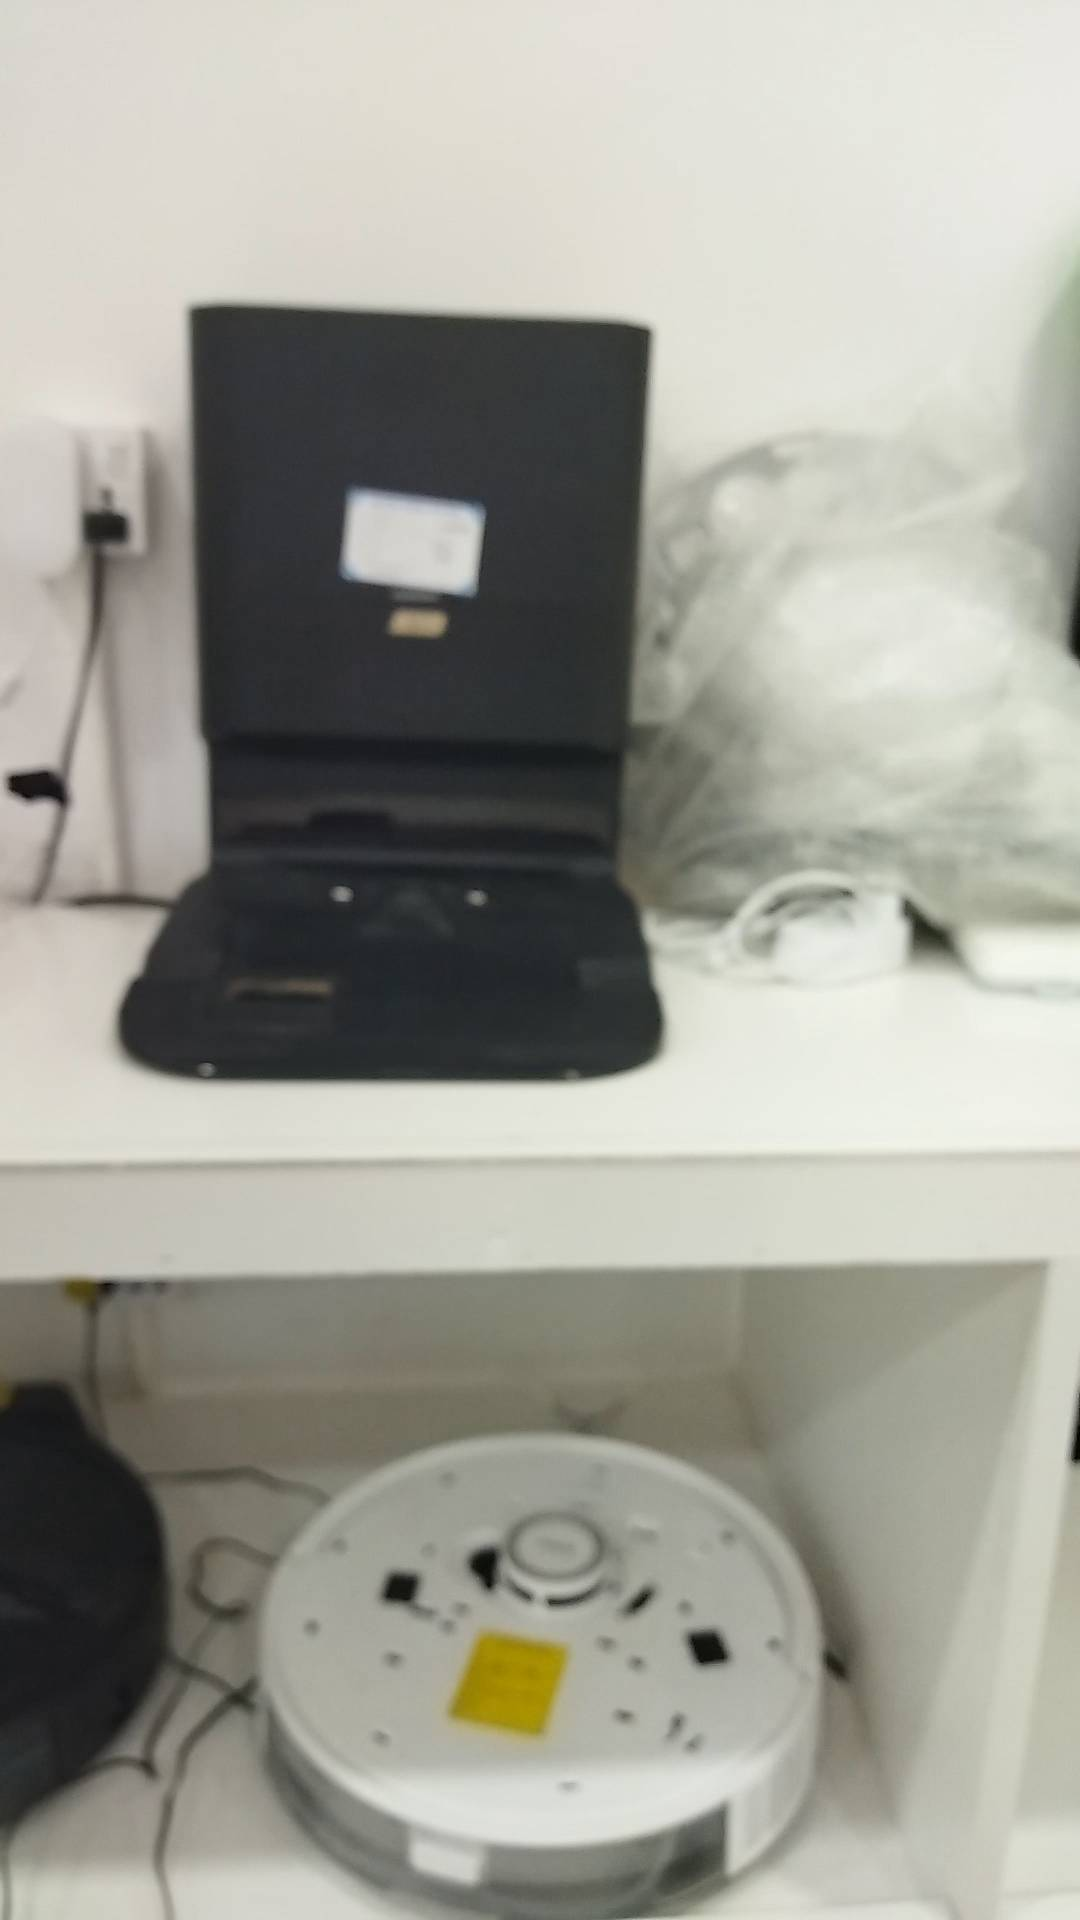dust collecting barrel: (117, 305, 665, 1084)
